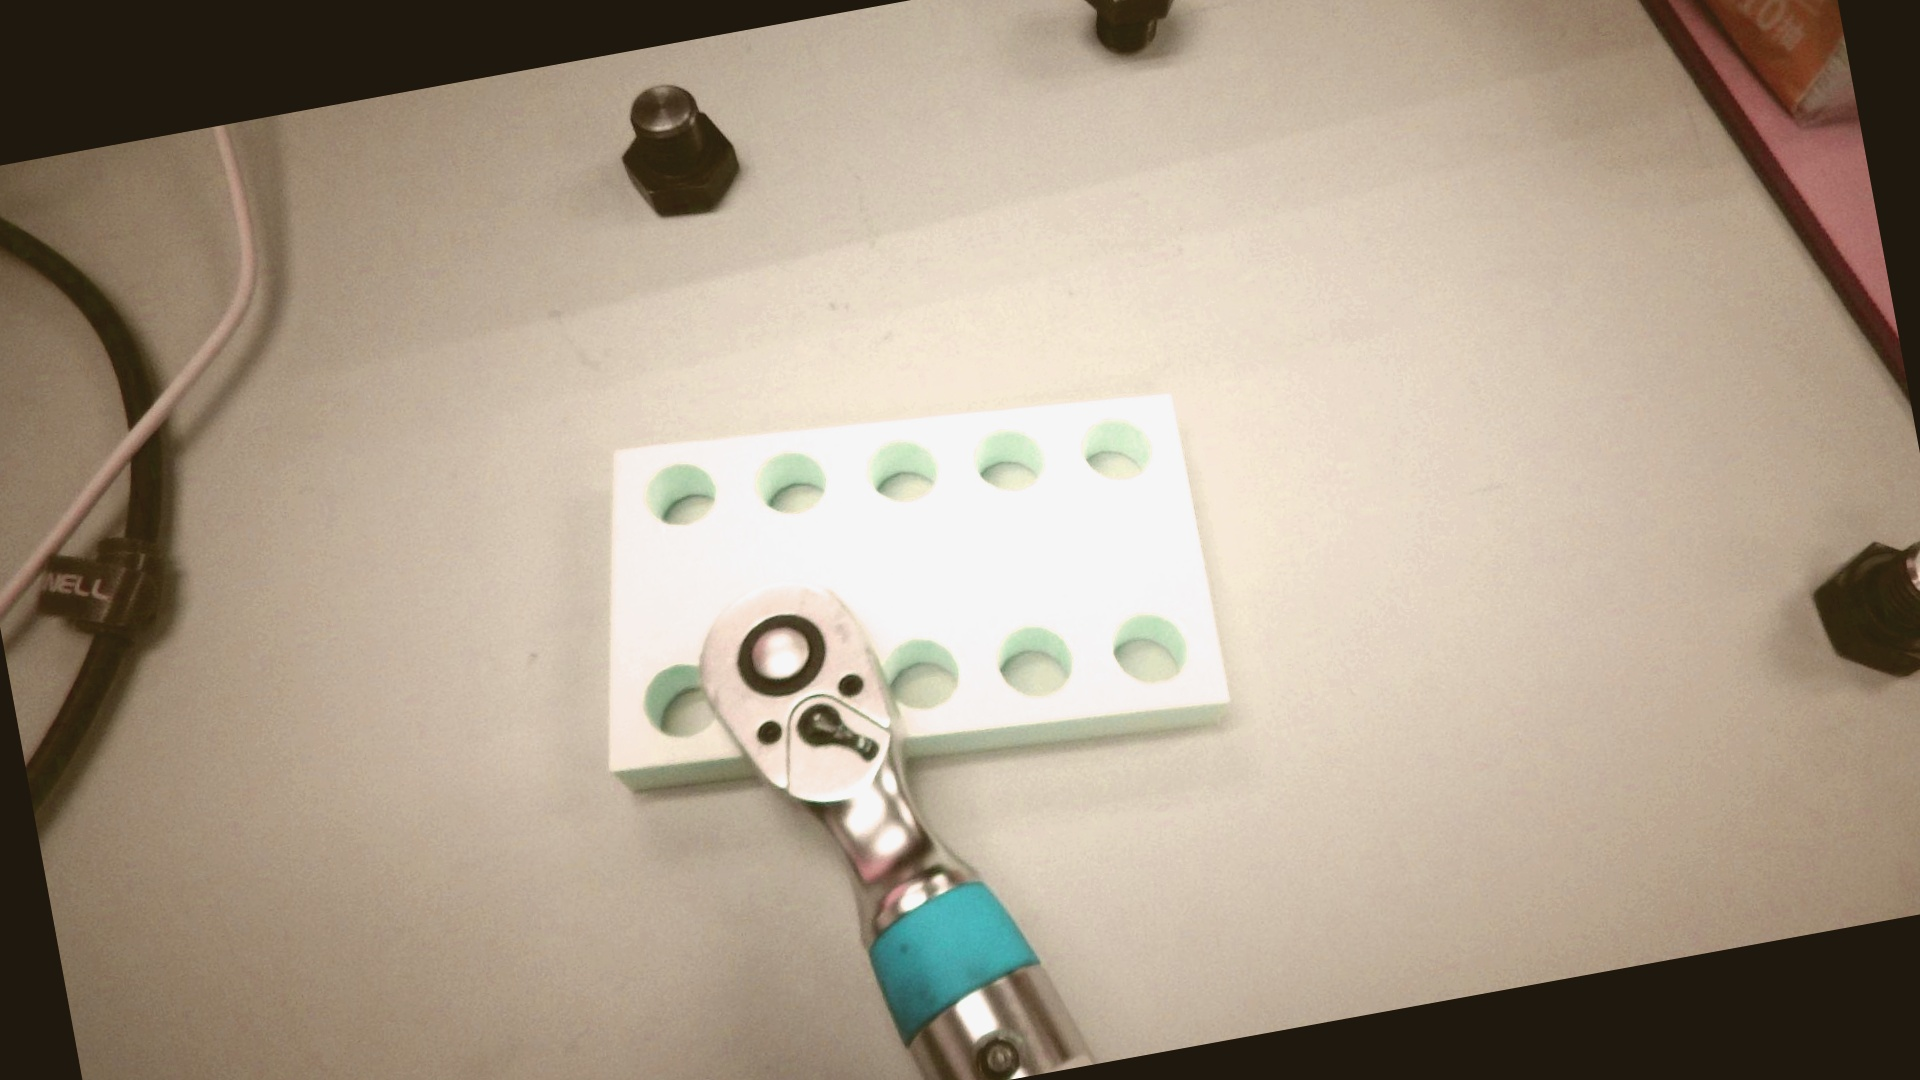hole: (992, 618, 1083, 705), (878, 632, 968, 717), (636, 659, 719, 745), (1108, 607, 1193, 688), (637, 456, 723, 534), (860, 431, 943, 509), (748, 446, 831, 518), (968, 422, 1048, 496), (1077, 411, 1156, 484)
obj: (553, 349, 1237, 833)
wrench: (731, 607, 833, 704)
